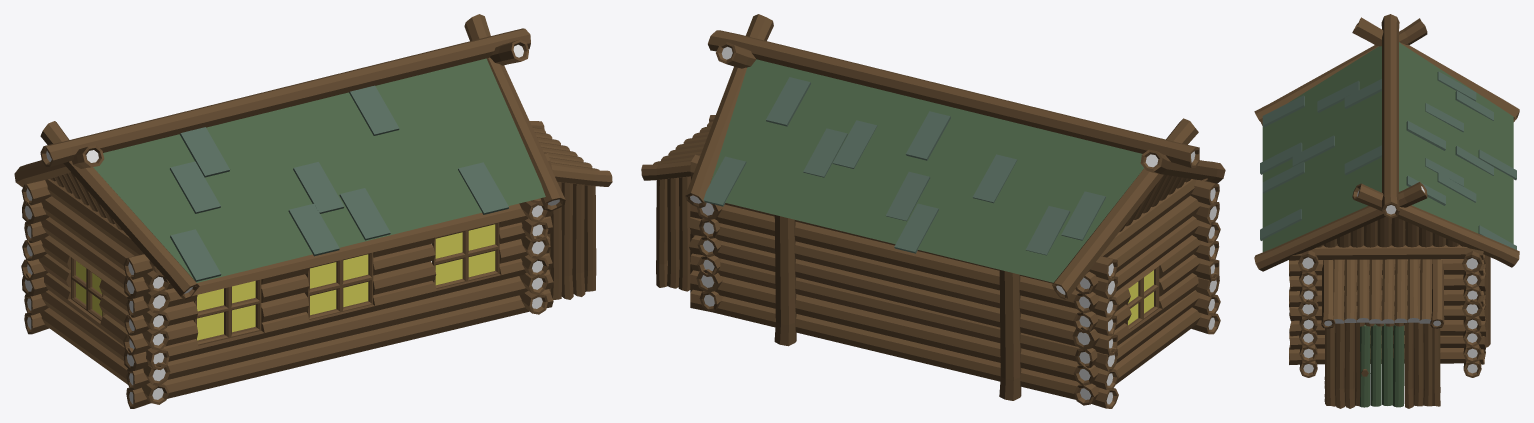
Rendered from SM_LogCabin_03.fbx.
3 renders of one model, left to right at view 1: azimuth 30°, elevation 25°; view 2: azimuth 150°, elevation 25°; view 3: azimuth 270°, elevation 25°, orthographic. The views are drawn at different scales.
Visible parts, largest first — view 1: SM_LogCabin_01, SM_LogCabin_01.002, SM_LogCabin_Shed; view 2: SM_LogCabin_01, SM_LogCabin_Shed, SM_LogCabin_01.004, SM_LogCabin_01.003, SM_LogCabin_01.002; view 3: SM_LogCabin_01, SM_LogCabin_Shed, SM_LogCabin_01.003.
Boxes of the visible parts, x1,y1,x2,y2 form: SM_LogCabin_01: (14,14,565,408); SM_LogCabin_01.002: (76,224,495,340); SM_LogCabin_Shed: (529,121,612,299); SM_LogCabin_01: (685,14,1225,408); SM_LogCabin_Shed: (641,115,715,292); SM_LogCabin_01.004: (999,270,1021,400); SM_LogCabin_01.003: (774,215,796,346); SM_LogCabin_01.002: (1128,270,1153,325); SM_LogCabin_01: (1254,14,1519,377); SM_LogCabin_Shed: (1321,259,1444,408); SM_LogCabin_01.003: (1484,255,1490,347).
Bounding box in the file's own units: 891 × 406 × 486.
